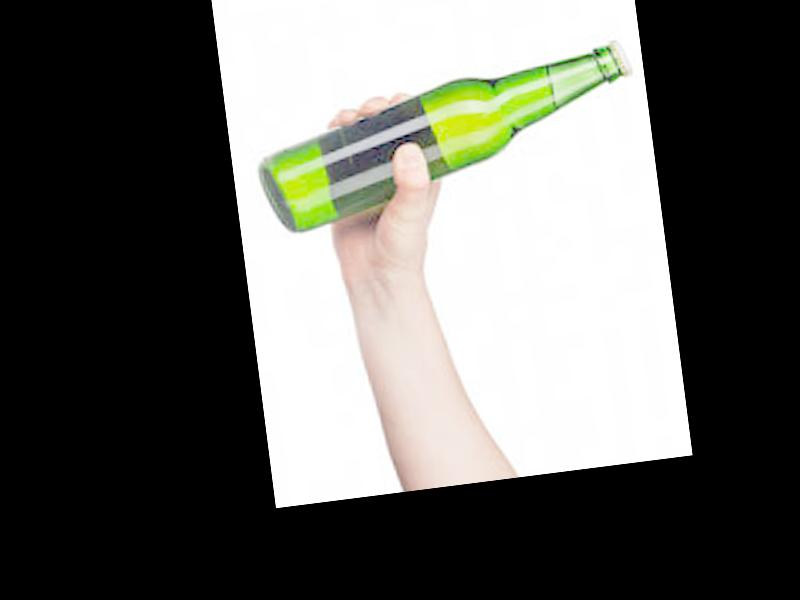Beer: (247, 38, 646, 236)
